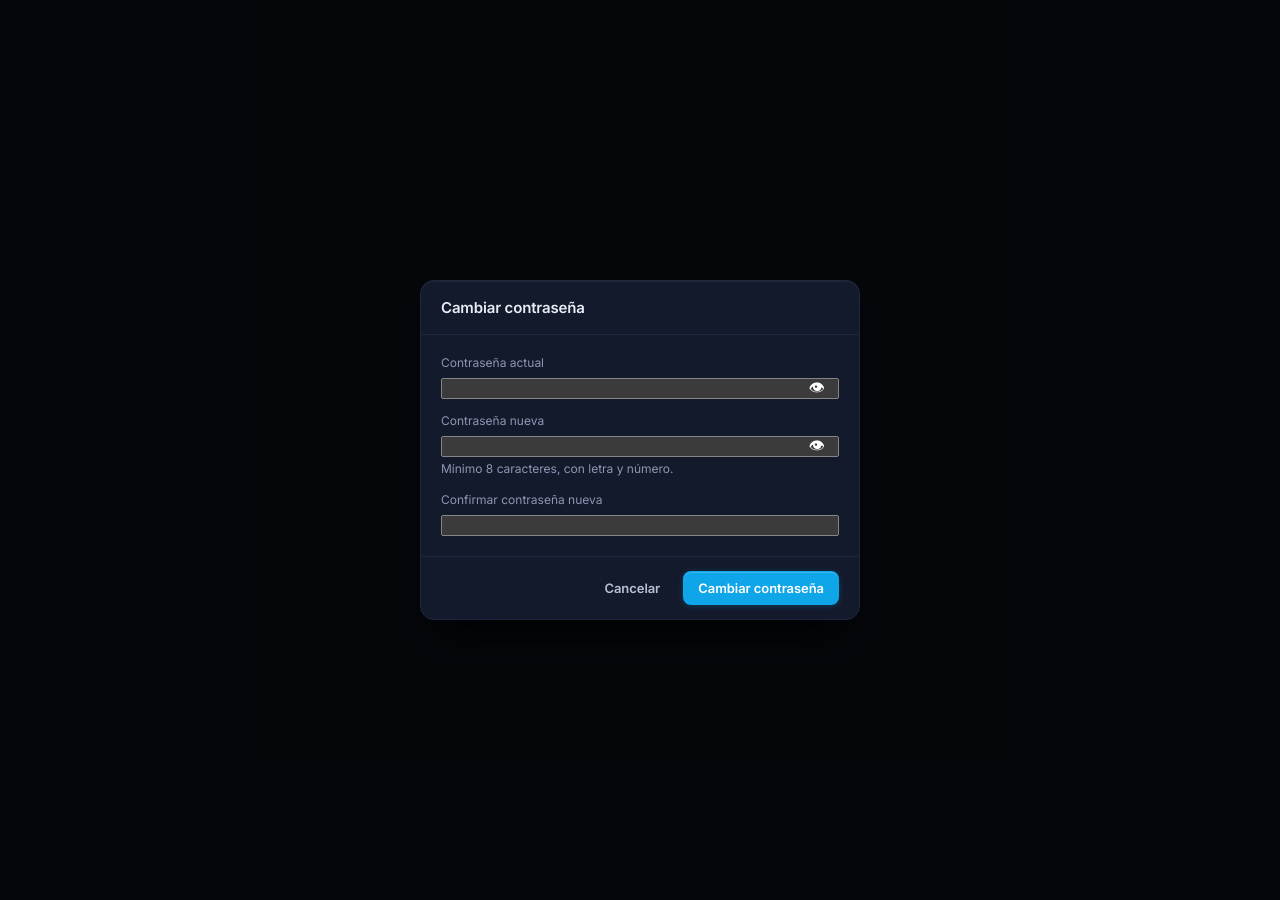
Test: ChangePasswordModal › valida cliente: nueva sin letra → error
The image size is (1280, 900).
Type "old-pass-123" into the password field labelled "Contraseña actual" at {"x": 640, "y": 389}, box [441, 378, 839, 399]
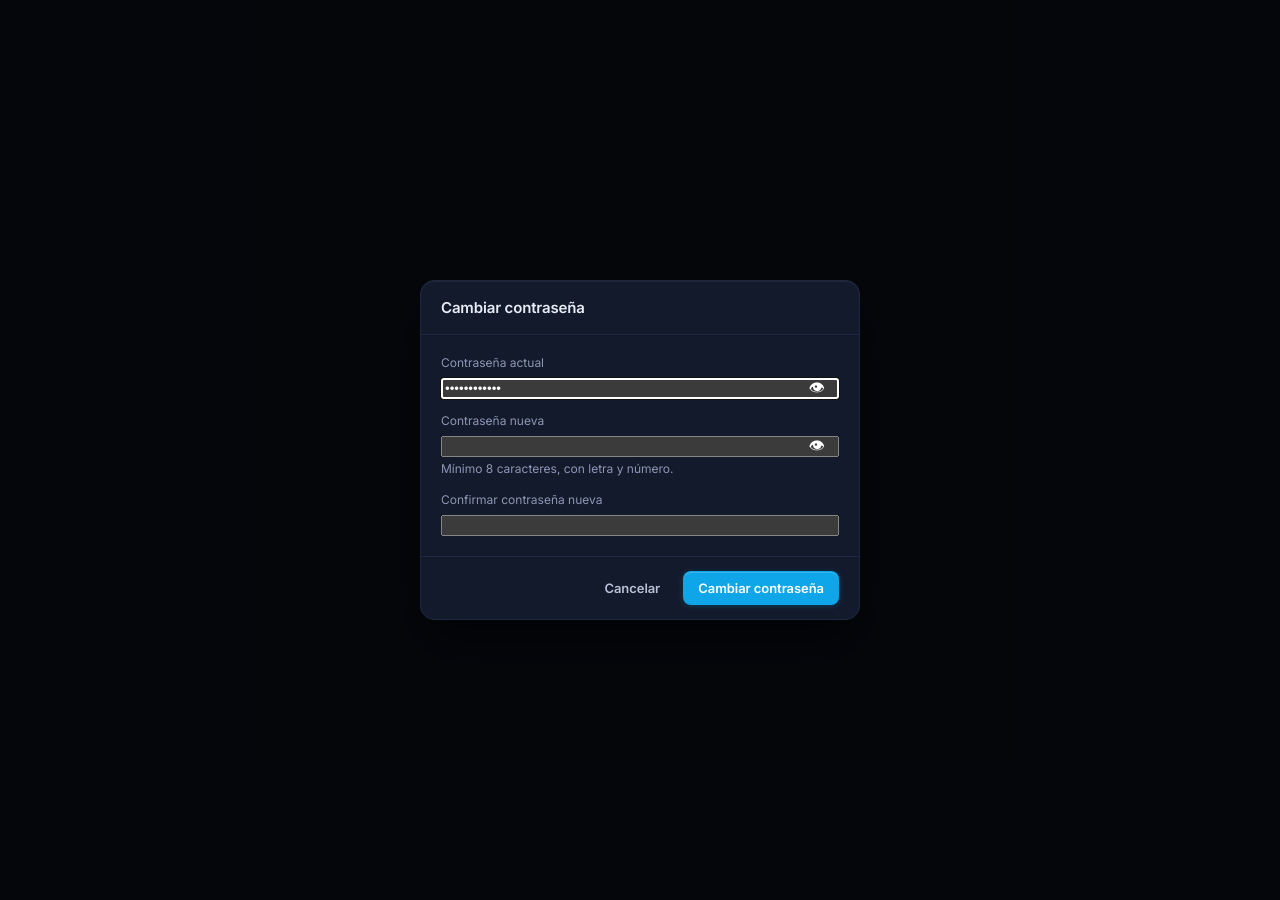
Type "12345678" into the password field labelled "Contraseña nueva" at {"x": 640, "y": 446}, box [441, 436, 839, 457]
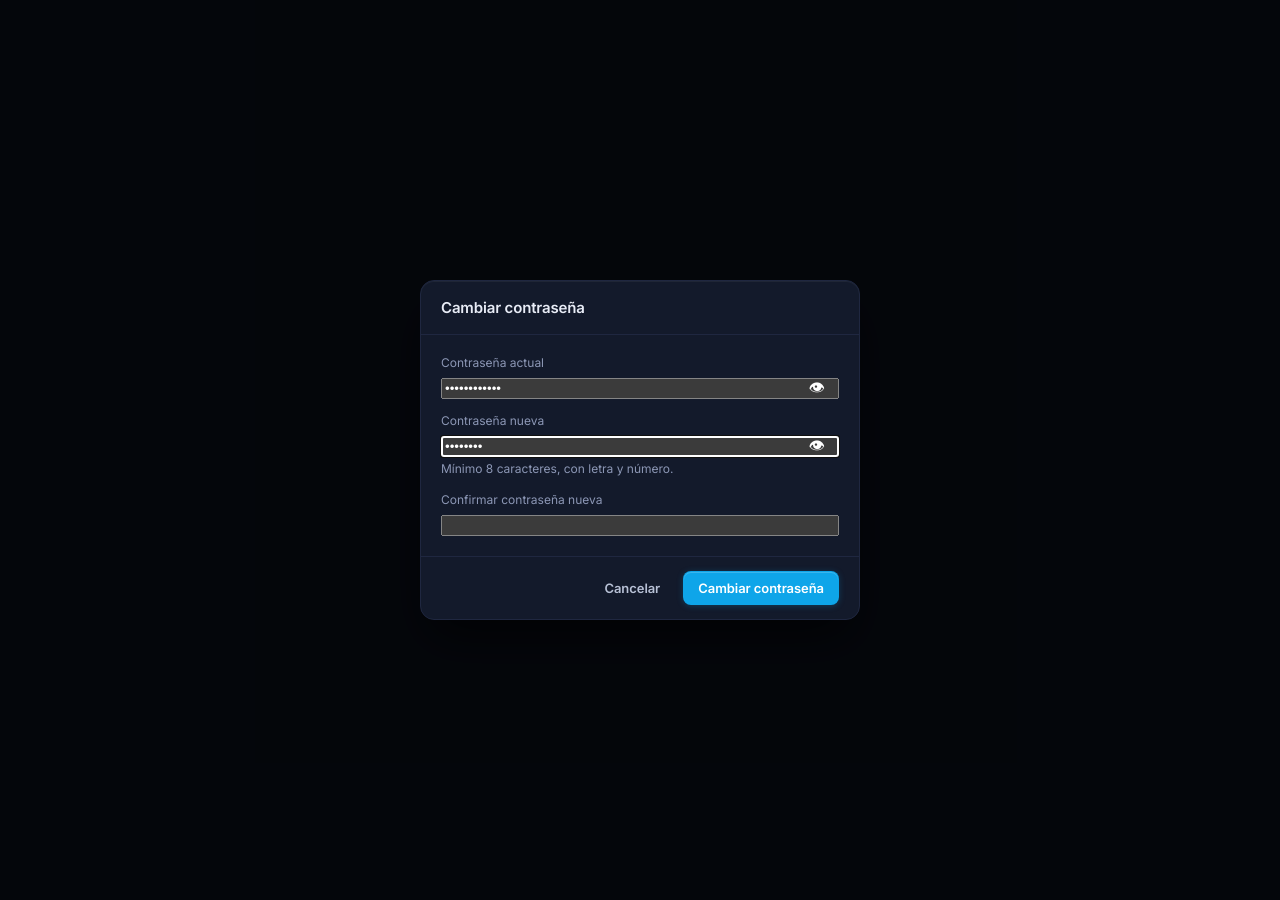
Type "12345678" into the password field labelled "Confirmar contraseña nueva" at {"x": 640, "y": 525}, box [441, 515, 839, 536]
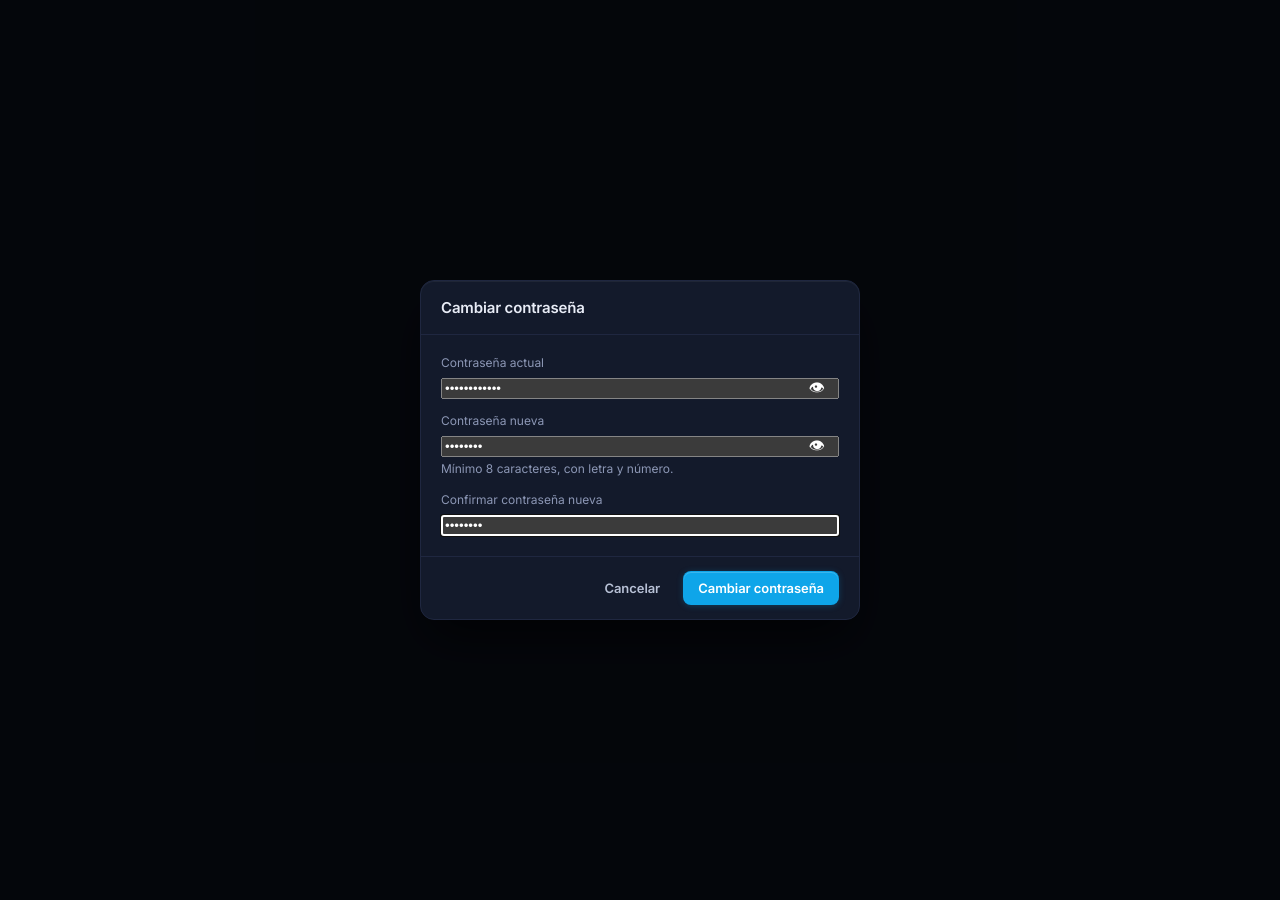
Click the button "Cambiar contraseña" at {"x": 761, "y": 588}, box [683, 571, 839, 605]
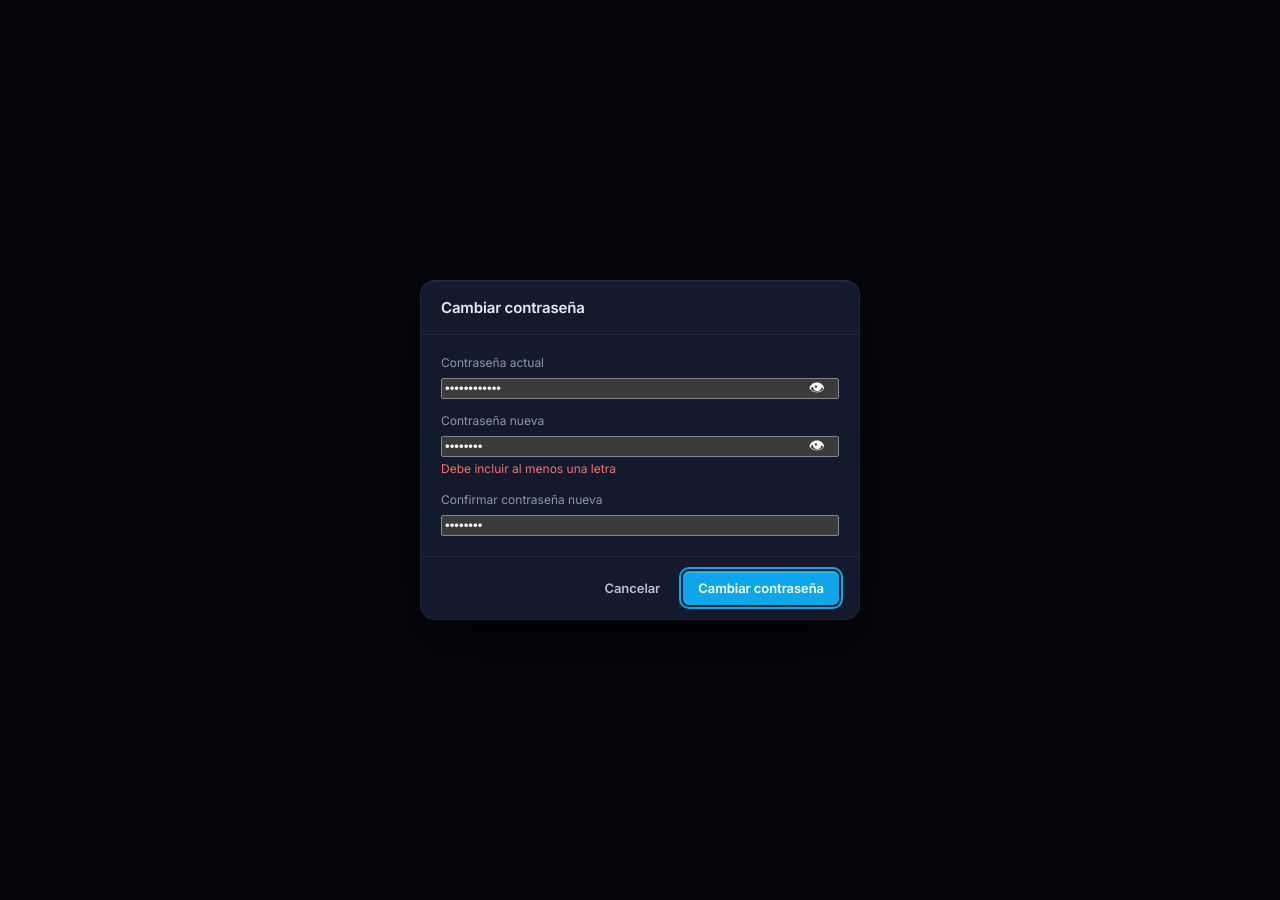
Expected: the text "Debe incluir al menos una letra" is shown, [441, 461, 616, 476]
